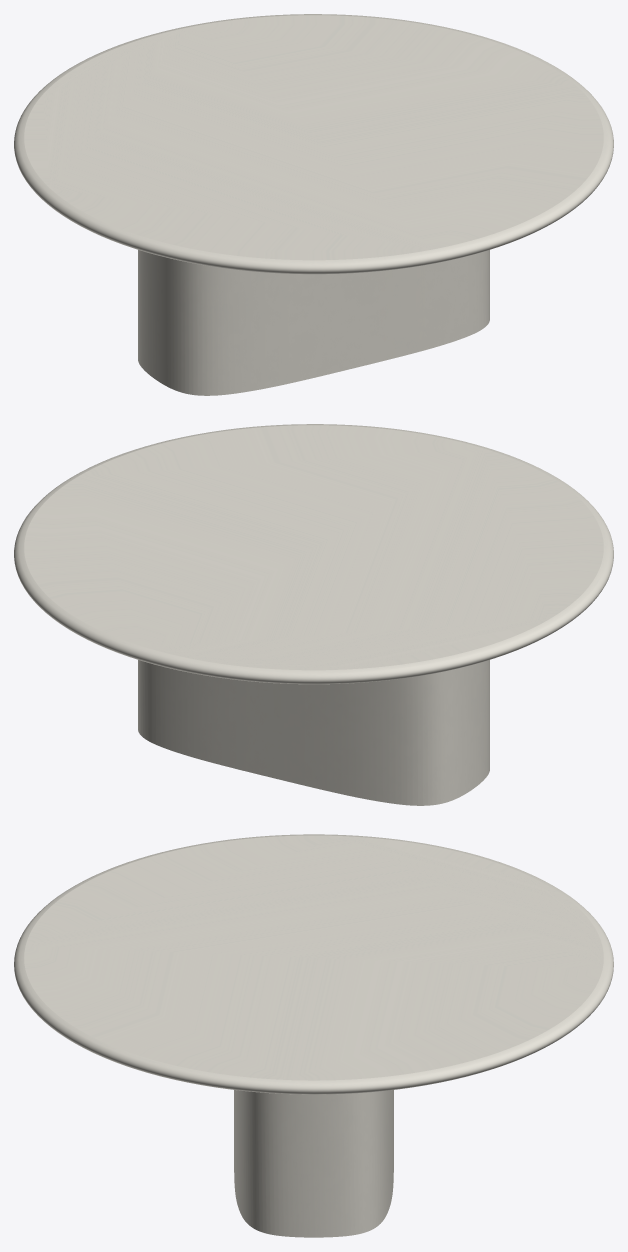
The model's file is pale_round_round_fixed.glb.
3 renders of one model, top to bottom at view 1: azimuth 30°, elevation 25°; view 2: azimuth 150°, elevation 25°; view 3: azimuth 270°, elevation 25°, orthographic.
Visible parts, largest first — view 1: round_round, fixed; view 2: round_round, fixed; view 3: round_round, fixed.
Boxes of the visible parts, x1=… form: round_round: x1=14, y1=14, x2=613, y2=274; fixed: x1=138, y1=250, x2=489, y2=395; round_round: x1=14, y1=424, x2=613, y2=684; fixed: x1=138, y1=660, x2=489, y2=805; round_round: x1=14, y1=834, x2=613, y2=1094; fixed: x1=234, y1=1090, x2=393, y2=1237.
Size of the model in its own units: 6.75 by 2.5 by 6.75.
1 material, 1 textured.
